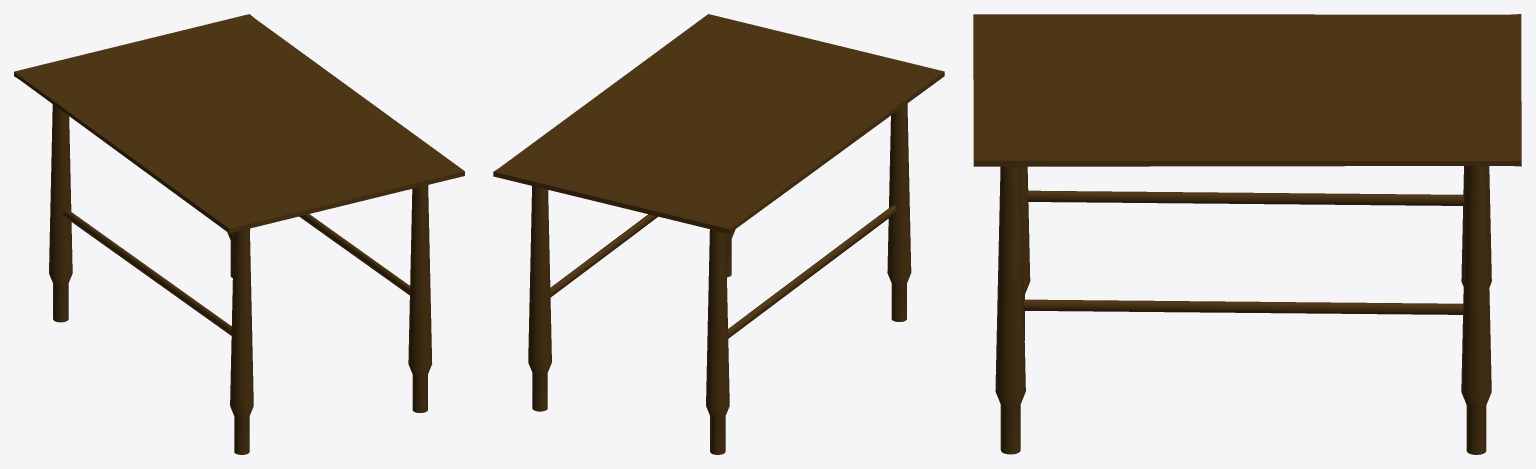
Rendered from tableSketch.fbx.
3 views of the same model, side by side, from view 1: azimuth 30°, elevation 25°; view 2: azimuth 150°, elevation 25°; view 3: azimuth 270°, elevation 25° (orthographic). The views are drawn at different scales.
Visible parts, largest first — view 1: pCube1, pCylinder2, pCylinder1, pCylinder4, pCylinder6, pCylinder5; view 2: pCube1, pCylinder4, pCylinder3, pCylinder1, pCylinder6, pCylinder5; view 3: pCube1, pCylinder3, pCylinder2, pCylinder5, pCylinder6, pCylinder1, pCylinder4.
Boxes of the visible parts, bbox=[...] form: pCube1: bbox=[14, 14, 464, 233]; pCylinder2: bbox=[408, 185, 432, 412]; pCylinder1: bbox=[230, 228, 253, 454]; pCylinder4: bbox=[49, 104, 72, 322]; pCylinder6: bbox=[63, 209, 231, 335]; pCylinder5: bbox=[299, 214, 409, 295]; pCube1: bbox=[493, 14, 944, 233]; pCylinder4: bbox=[706, 229, 729, 454]; pCylinder3: bbox=[528, 186, 551, 411]; pCylinder1: bbox=[887, 103, 911, 321]; pCylinder6: bbox=[728, 205, 896, 338]; pCylinder5: bbox=[550, 214, 657, 296]; pCube1: bbox=[973, 14, 1521, 166]; pCylinder3: bbox=[1461, 166, 1491, 454]; pCylinder2: bbox=[995, 166, 1025, 454]; pCylinder5: bbox=[1023, 299, 1463, 314]; pCylinder6: bbox=[1027, 190, 1463, 205]; pCylinder1: bbox=[1021, 166, 1030, 340]; pCylinder4: bbox=[1461, 166, 1491, 287].
Size of the model in its own units: 6.68 by 6.54 by 10.54.
